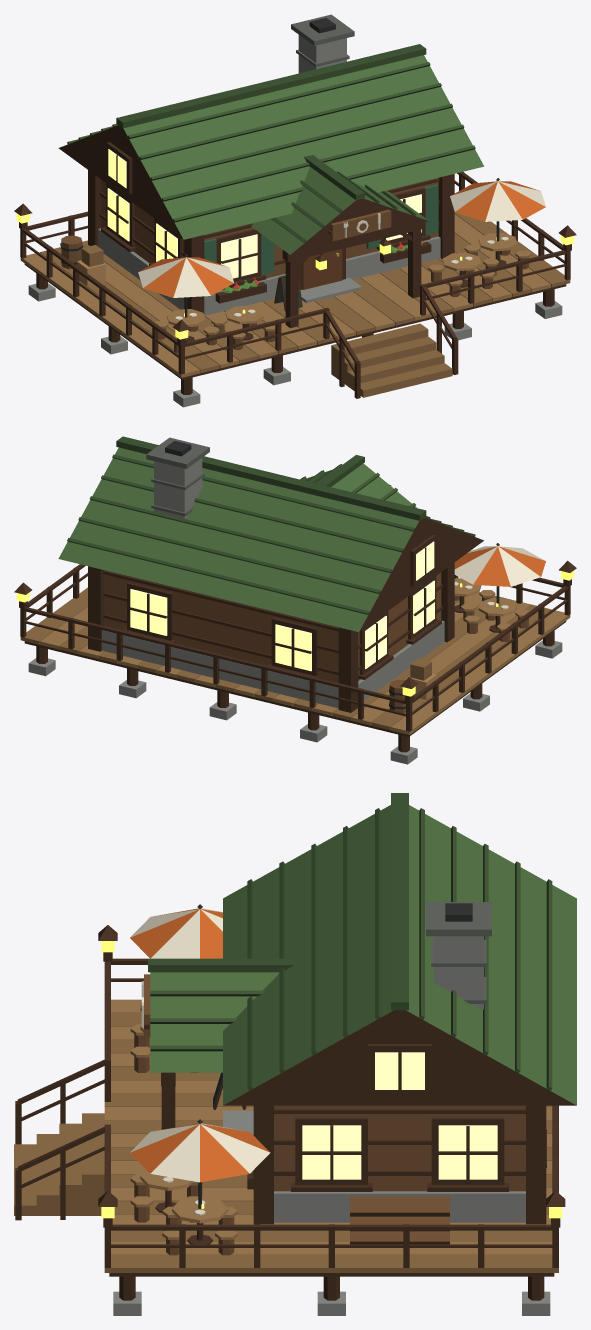
The model's file is rest.fbx.
The picture shows the model from 3 angles, top to bottom: view 1: azimuth 30°, elevation 25°; view 2: azimuth 150°, elevation 25°; view 3: azimuth 270°, elevation 25°; orthographic projection. The views are drawn at different scales.
Visible parts, largest first — view 1: ForestRestaurant; view 2: ForestRestaurant; view 3: ForestRestaurant.
Boxes of the visible parts, bbox=[...] form: ForestRestaurant: bbox=[14, 14, 576, 407]; ForestRestaurant: bbox=[14, 436, 576, 764]; ForestRestaurant: bbox=[14, 793, 576, 1315].
Size of the model in its own units: 1430 by 792 by 1240.
